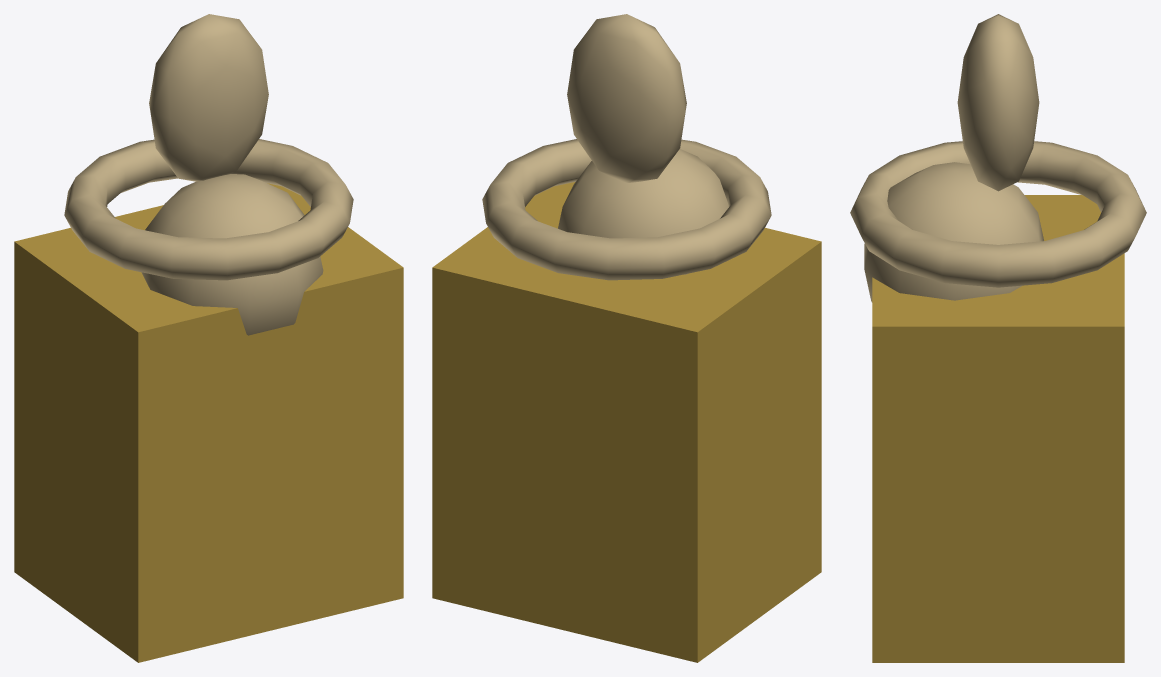
File: star_elite.glb
3 views of the same model, side by side, from view 1: azimuth 30°, elevation 25°; view 2: azimuth 150°, elevation 25°; view 3: azimuth 270°, elevation 25° (orthographic).
Parts seen in each view (by area): view 1: CoreBody, MOTIF_star_halo, ELITE_star_crest, Head; view 2: CoreBody, MOTIF_star_halo, ELITE_star_crest, Head; view 3: CoreBody, MOTIF_star_halo, Head, ELITE_star_crest.
Boxes of the visible parts, left/top/right/bottom form: CoreBody: left=14, top=183, right=403, bottom=662; MOTIF_star_halo: left=64, top=139, right=353, bottom=280; ELITE_star_crest: left=149, top=14, right=268, bottom=181; Head: left=141, top=174, right=323, bottom=335; CoreBody: left=432, top=182, right=821, bottom=662; MOTIF_star_halo: left=482, top=139, right=771, bottom=280; ELITE_star_crest: left=567, top=14, right=686, bottom=182; Head: left=558, top=149, right=728, bottom=274; CoreBody: left=872, top=195, right=1124, bottom=662; MOTIF_star_halo: left=850, top=141, right=1146, bottom=287; Head: left=864, top=162, right=1043, bottom=302; ELITE_star_crest: left=957, top=14, right=1039, bottom=191.
Size of the model in its own units: 1.28 by 2.63 by 1.22.
